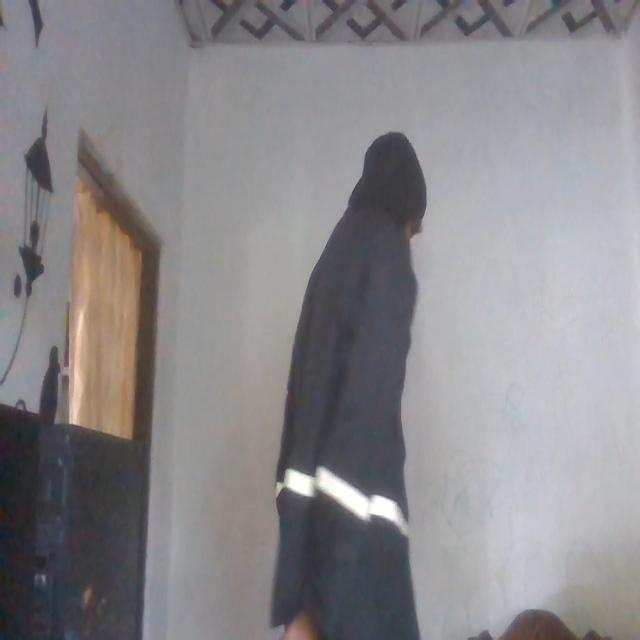Jacket_Wearer: (267, 172, 431, 628)
Person: (266, 95, 436, 640)
